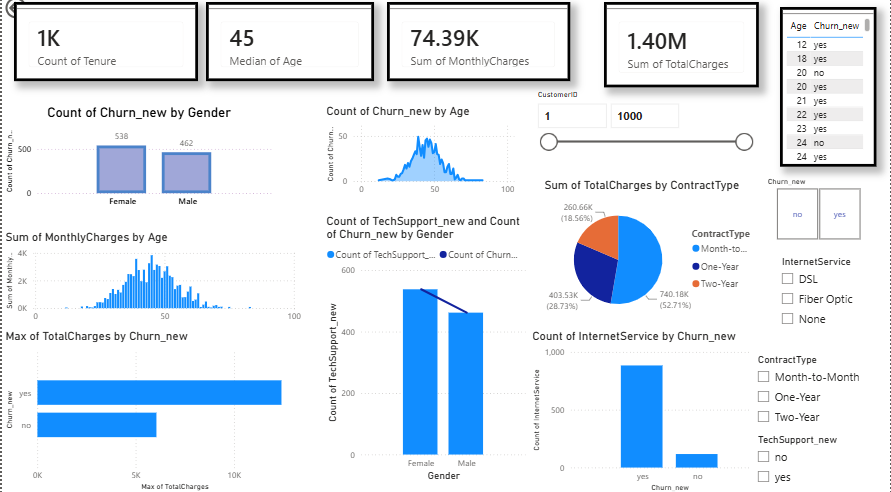

The dashboard page shown, as its layout file describes it:
{"tool":"powerbi","page":{"name":"Page 1","canvas":[1280,720],"ordinal":0},"visuals":[{"type":"clusteredColumnChart","fields":{"Y":["Sum(customer_churn_dataset.MonthlyCharges)"],"Category":["customer_churn_dataset.Age"]},"box":[0,317.5,394.8,164.6],"z":0},{"type":"pieChart","fields":{"Category":["customer_churn_dataset.ContractType"],"Y":["Sum(customer_churn_dataset.TotalCharges)"]},"box":[776.1,265.4,314.1,216.7],"z":1000},{"type":"columnChart","fields":{"Category":["customer_churn_dataset.Gender"],"Y":["CountNonNull(customer_churn_dataset.Churn_new)"]},"box":[16.8,157.9,428.3,181.4],"z":2000},{"type":"clusteredBarChart","fields":{"Y":["Max(customer_churn_dataset.TotalCharges)"],"Category":["customer_churn_dataset.Churn_new"]},"box":[0,497.2,461.9,223.4],"z":3000},{"type":"clusteredColumnChart","fields":{"Category":["customer_churn_dataset.Churn_new"],"Y":["CountNonNull(customer_churn_dataset.InternetService)"]},"box":[759.3,482.1,351.1,238.5],"z":4000},{"type":"lineStackedColumnComboChart","fields":{"Category":["customer_churn_dataset.Gender"],"Y":["CountNonNull(customer_churn_dataset.TechSupport_new)"],"Y2":["CountNonNull(customer_churn_dataset.Churn_new)"]},"box":[461.9,317.5,297.3,389.7],"z":5000},{"type":"slicer","fields":{"Values":["customer_churn_dataset.ContractType"]},"box":[1075.1,512.3,204.9,120.9],"z":6000},{"type":"slicer","fields":{"Values":["customer_churn_dataset.Churn_new"]},"box":[1090.2,258.7,169.7,100.8],"z":7000},{"type":"slicer","fields":{"Values":["customer_churn_dataset.TechSupport_new"]},"box":[1075.1,628.2,204.9,92.4],"z":8000},{"type":"slicer","fields":{"Values":["customer_churn_dataset.InternetService"]},"box":[1110.3,371.2,169.7,137.7],"z":9000},{"type":"slicer","fields":{"Values":["customer_churn_dataset.CustomerID"]},"box":[759.3,134.4,330.9,119.3],"z":10000},{"type":"actionButton","box":[0,0,100,40],"z":11000},{"type":"tableEx","fields":{"Values":["customer_churn_dataset.Age","customer_churn_dataset.Churn_new"]},"box":[1120.4,18.5,139.4,230.1],"z":12000},{"type":"cardVisual","fields":{"Data":["Sum(customer_churn_dataset.MonthlyCharges)"]},"box":[554.3,11.8,263.7,114.2],"z":13000},{"type":"cardVisual","fields":{"Data":["Sum(customer_churn_dataset.TotalCharges)"]},"box":[866.8,11.8,223.4,122.6],"z":14000},{"type":"cardVisual","fields":{"Data":["CountNonNull(customer_churn_dataset.Tenure)"]},"box":[16.8,11.8,265.4,114.2],"z":15000},{"type":"cardVisual","fields":{"Data":["Median(customer_churn_dataset.Age)"]},"box":[294,11.8,241.9,114.2],"z":16000},{"type":"stackedAreaChart","fields":{"Category":["customer_churn_dataset.Age"],"Y":["CountNonNull(customer_churn_dataset.Churn_new)"]},"box":[461.9,157.9,280.5,141.1],"z":17000}]}

Visuals, with their boxes in screenshot pixels (x1, y1, x2, y2), scaled from the page's 1280x720 canvas onto the 891x492 screenshot:
clusteredColumnChart - Sum(customer_churn_dataset.MonthlyCharges) x customer_churn_dataset.Age: (x1=0, y1=217, x2=275, y2=329)
pieChart - customer_churn_dataset.ContractType x Sum(customer_churn_dataset.TotalCharges): (x1=540, y1=181, x2=759, y2=329)
columnChart - customer_churn_dataset.Gender x CountNonNull(customer_churn_dataset.Churn_new): (x1=12, y1=108, x2=310, y2=232)
clusteredBarChart - Max(customer_churn_dataset.TotalCharges) x customer_churn_dataset.Churn_new: (x1=0, y1=340, x2=322, y2=491)
clusteredColumnChart - customer_churn_dataset.Churn_new x CountNonNull(customer_churn_dataset.InternetService): (x1=529, y1=329, x2=773, y2=491)
lineStackedColumnComboChart - customer_churn_dataset.Gender x CountNonNull(customer_churn_dataset.TechSupport_new): (x1=322, y1=217, x2=528, y2=483)
slicer - customer_churn_dataset.ContractType: (x1=748, y1=350, x2=890, y2=433)
slicer - customer_churn_dataset.Churn_new: (x1=759, y1=177, x2=877, y2=246)
slicer - customer_churn_dataset.TechSupport_new: (x1=748, y1=429, x2=890, y2=491)
slicer - customer_churn_dataset.InternetService: (x1=773, y1=254, x2=890, y2=348)
slicer - customer_churn_dataset.CustomerID: (x1=529, y1=92, x2=759, y2=173)
actionButton: (x1=0, y1=0, x2=70, y2=27)
tableEx - customer_churn_dataset.Age x customer_churn_dataset.Churn_new: (x1=780, y1=13, x2=877, y2=170)
cardVisual - Sum(customer_churn_dataset.MonthlyCharges): (x1=386, y1=8, x2=569, y2=86)
cardVisual - Sum(customer_churn_dataset.TotalCharges): (x1=603, y1=8, x2=759, y2=92)
cardVisual - CountNonNull(customer_churn_dataset.Tenure): (x1=12, y1=8, x2=196, y2=86)
cardVisual - Median(customer_churn_dataset.Age): (x1=205, y1=8, x2=373, y2=86)
stackedAreaChart - customer_churn_dataset.Age x CountNonNull(customer_churn_dataset.Churn_new): (x1=322, y1=108, x2=517, y2=204)
